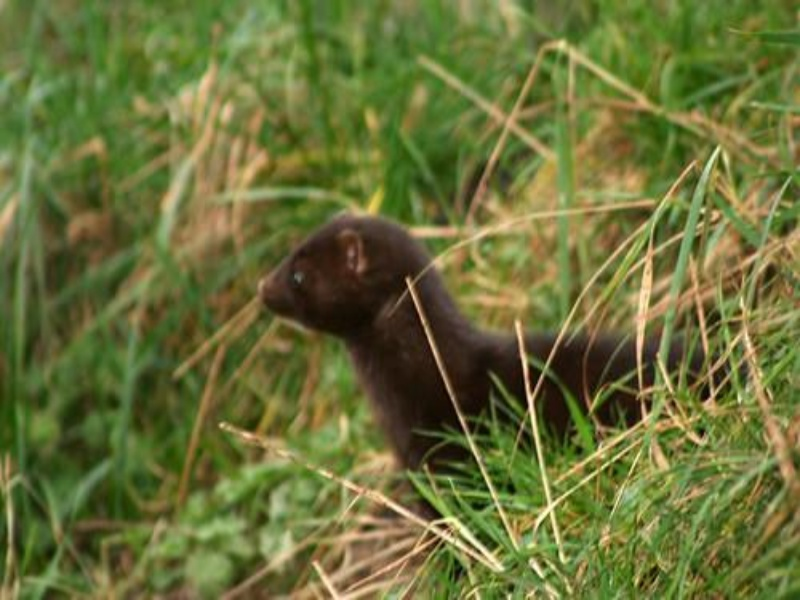minkish: (252, 209, 746, 485)
